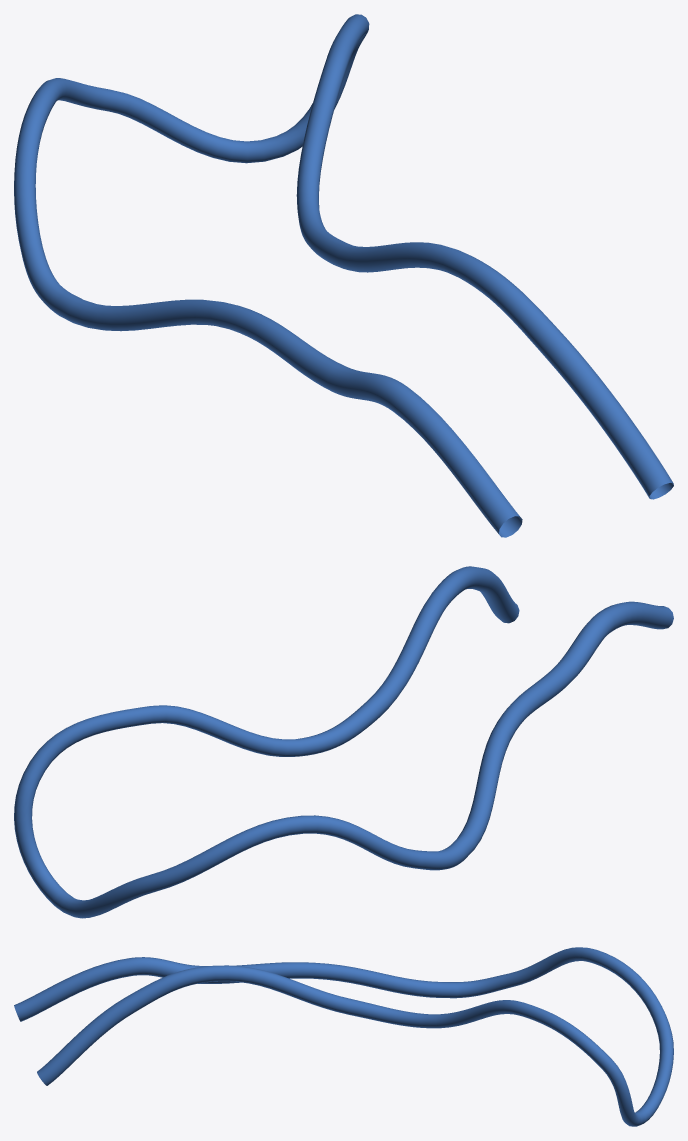
3 renders of one model, top to bottom at view 1: azimuth 30°, elevation 25°; view 2: azimuth 150°, elevation 25°; view 3: azimuth 270°, elevation 25°, orthographic. The views are drawn at different scales.
Visible parts, largest first — view 1: 右侧掌浅静脉弓; view 2: 右侧掌浅静脉弓; view 3: 右侧掌浅静脉弓.
Boxes of the visible parts, box(x1,y1,x2,y2) form: 右侧掌浅静脉弓: box(14, 14, 673, 537); 右侧掌浅静脉弓: box(14, 566, 673, 918); 右侧掌浅静脉弓: box(14, 947, 673, 1126).
Bounding box in the file's own units: 0.0455 × 0.0189 × 0.0967.
